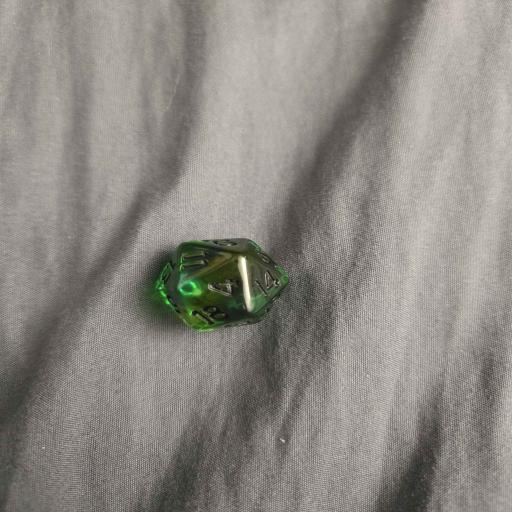twenty sided dice: (155, 238, 290, 330)
